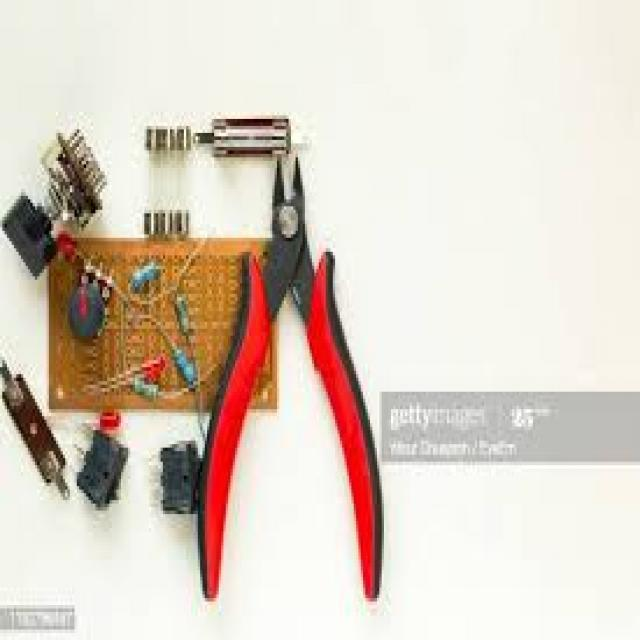pliers: (194, 146, 396, 612)
